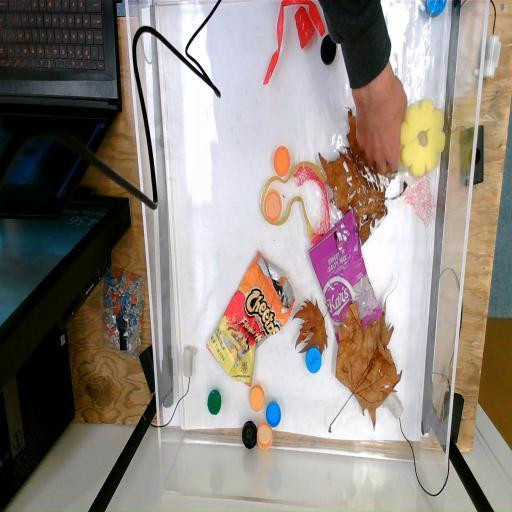Bottle Cap: (318, 31, 338, 68), (264, 188, 282, 224), (272, 146, 292, 178), (421, 0, 447, 22), (257, 424, 277, 450), (241, 422, 259, 450), (263, 400, 282, 426), (248, 384, 264, 414), (305, 346, 321, 376), (206, 389, 222, 416)
Cone Cap: (293, 2, 318, 56)
Leaf: (316, 108, 414, 240), (332, 298, 404, 432), (291, 295, 333, 360)
Netting: (292, 163, 340, 244)
Plastic Bag: (203, 250, 297, 386), (304, 208, 396, 344), (401, 172, 438, 228)
Plastic Strand: (259, 158, 339, 244), (258, 0, 326, 87)
Sponge: (396, 98, 447, 180)
